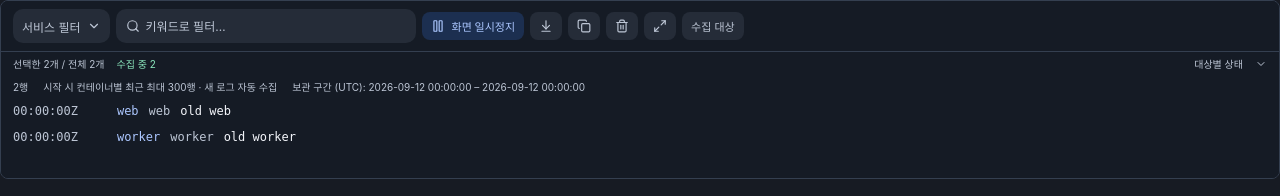
discards a display response that was already pending when Clear captured a newer watermark
Click the button named "현재 로그 비우기" at (622, 26), box [606,12,638,40]
Wait 500 ms
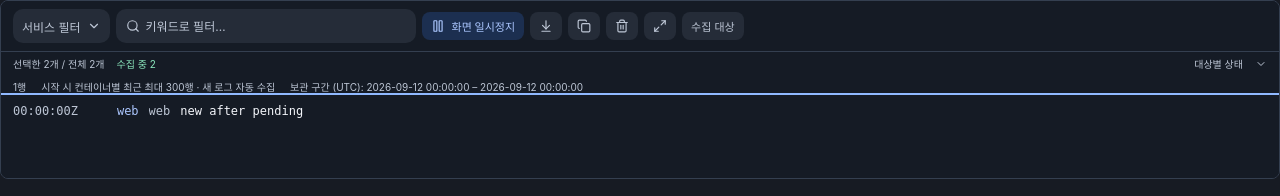
Expected: the element showing "00:00:00Z web web new after pending" does not show "arrived during pending read", [1,98,1279,178]
Expected: the element showing "00:00:00Z web web new after pending" no longer shows "old web", [1,98,1279,178]
Expected: the element showing "00:00:00Z web web new after pending" is shown, [1,98,1279,178]
